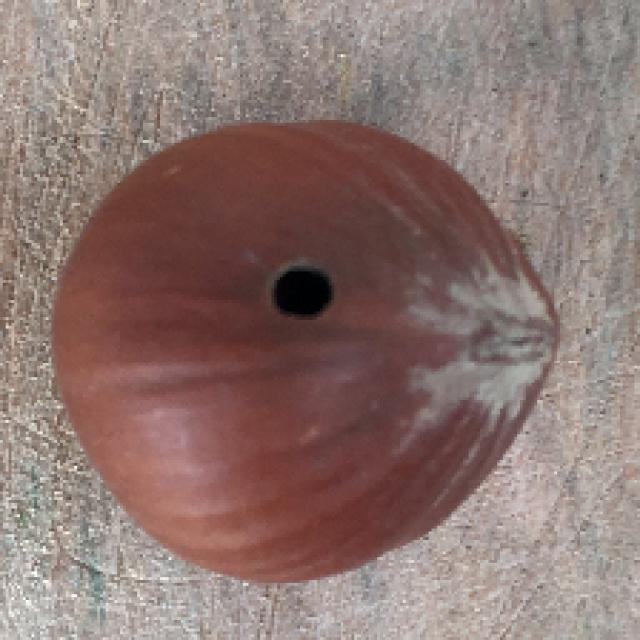damagedHazelnut: (49, 117, 558, 581)
